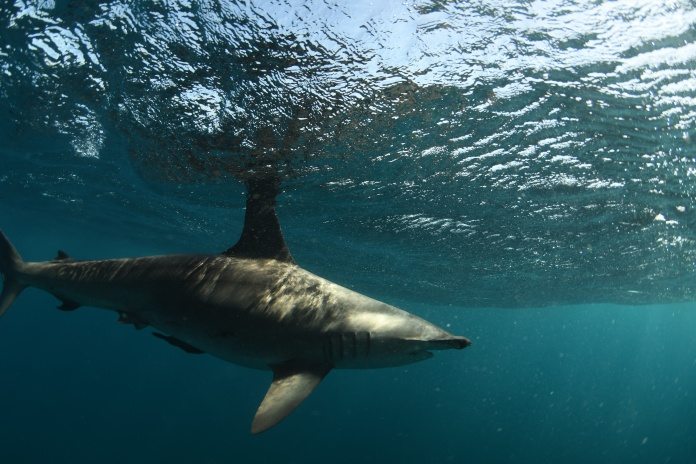Hammer: (1, 173, 497, 445)
